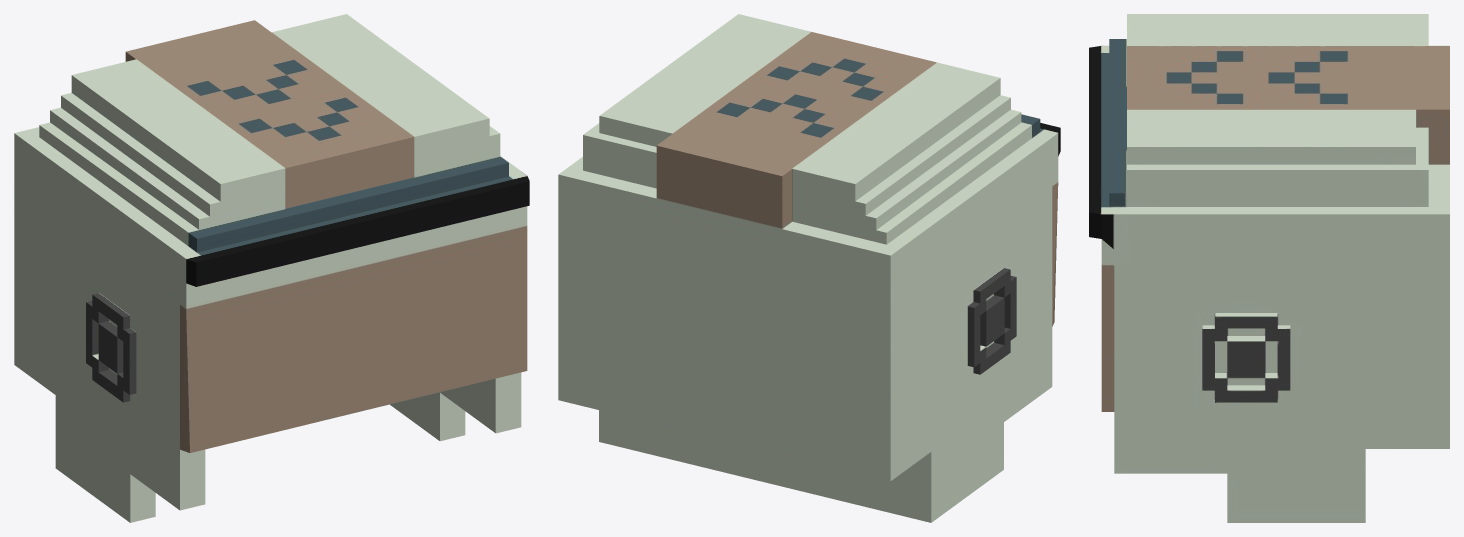
The model's file is rebel_helmet.glb.
The picture shows the model from 3 angles, left to right: view 1: azimuth 30°, elevation 25°; view 2: azimuth 150°, elevation 25°; view 3: azimuth 270°, elevation 25°; orthographic projection. The views are drawn at different scales.
Parts seen in each view (by area): view 1: rebel_helmet.001; view 2: rebel_helmet.001; view 3: rebel_helmet.001.
Boxes of the visible parts, x1,y1,x2,y2 form: rebel_helmet.001: (14, 14, 529, 522); rebel_helmet.001: (558, 14, 1060, 522); rebel_helmet.001: (1089, 14, 1449, 522).
Size of the model in its own units: 3.3 by 3.19 by 2.87.
1 material, 1 textured.
